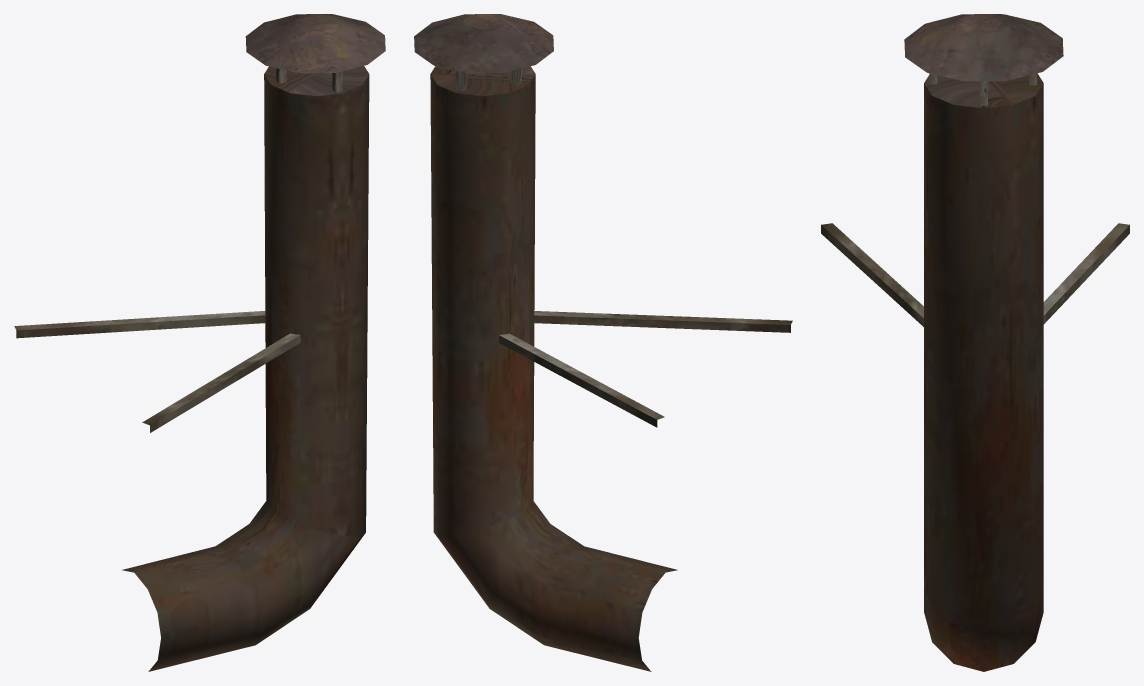
File: chimneypipe01a.glb
3 renders of one model, left to right at view 1: azimuth 30°, elevation 25°; view 2: azimuth 150°, elevation 25°; view 3: azimuth 270°, elevation 25°, orthographic. The views are drawn at different scales.
Visible parts, largest first — view 1: 0_quarryobjects01; view 2: 0_quarryobjects01; view 3: 0_quarryobjects01.
Boxes of the visible parts, left/top/right/bottom form: 0_quarryobjects01: left=14, top=14, right=385, bottom=671; 0_quarryobjects01: left=414, top=14, right=792, bottom=671; 0_quarryobjects01: left=821, top=14, right=1129, bottom=671.
Bounding box in the file's own units: 2.9 × 5.55 × 2.27.
1 material, 1 textured.
